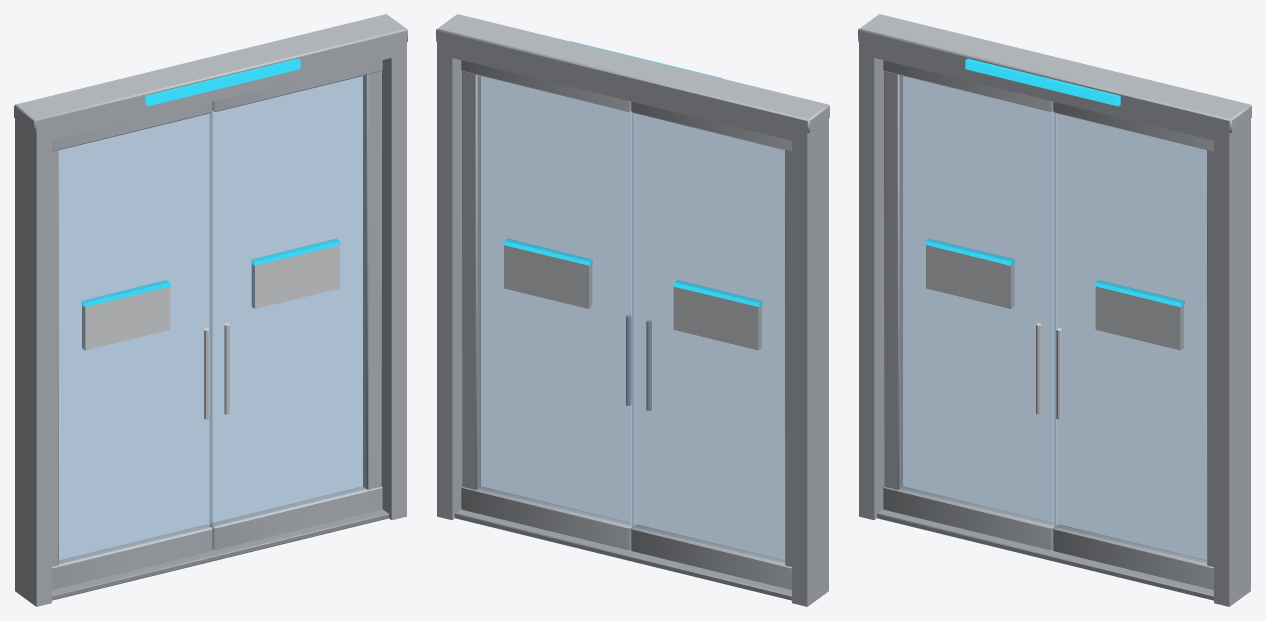
Rendered from door_glass_lab.glb.
3 renders of one model, left to right at view 1: azimuth 30°, elevation 25°; view 2: azimuth 150°, elevation 25°; view 3: azimuth 330°, elevation 25°, orthographic.
Parts seen in each view (by area): view 1: leaf_r, leaf_l, body; view 2: leaf_r, leaf_l, body; view 3: leaf_l, leaf_r, body.
Part boxes in pixels (box(x1,y1,x2,y2)): leaf_r: box(209, 60, 382, 549); leaf_l: box(52, 101, 212, 589); body: box(14, 14, 407, 606); leaf_r: box(461, 60, 634, 549); leaf_l: box(631, 101, 791, 589); body: box(436, 14, 829, 606); leaf_l: box(883, 60, 1056, 549); leaf_r: box(1053, 101, 1213, 589); body: box(858, 14, 1251, 606).
Bounding box in the file's own units: 2.2 × 2.74 × 0.245.
